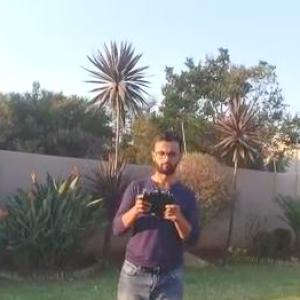follow: (103, 121, 208, 299)
